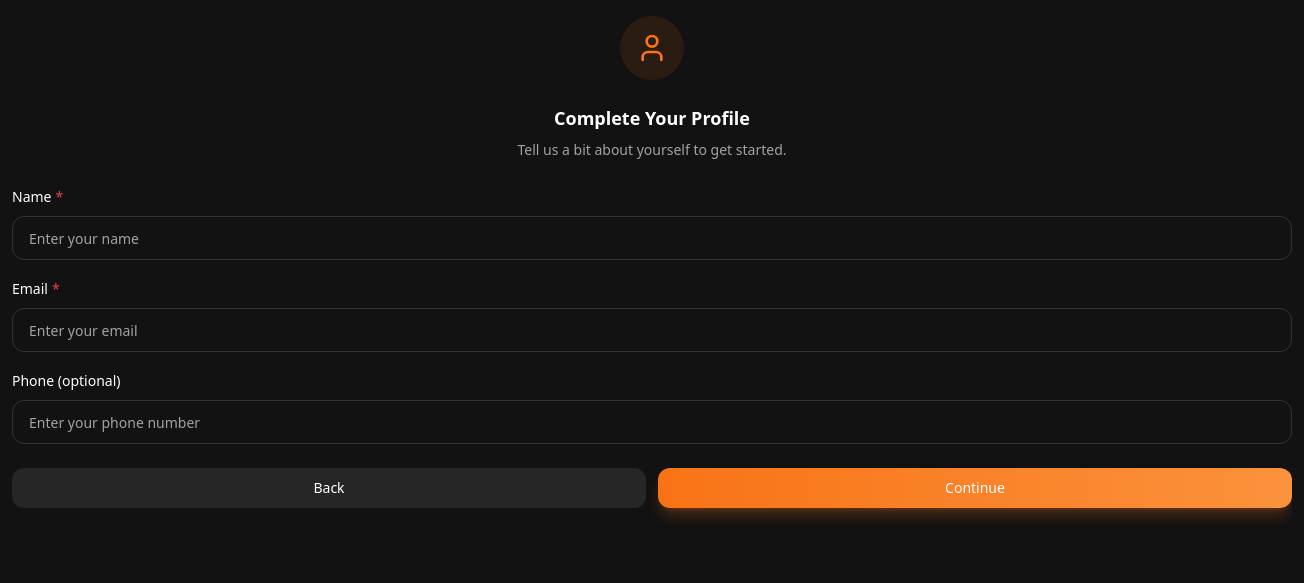
it: requires a name and an email before saving
Click the button "Continue" at (975,488), box [658,468,1292,508]
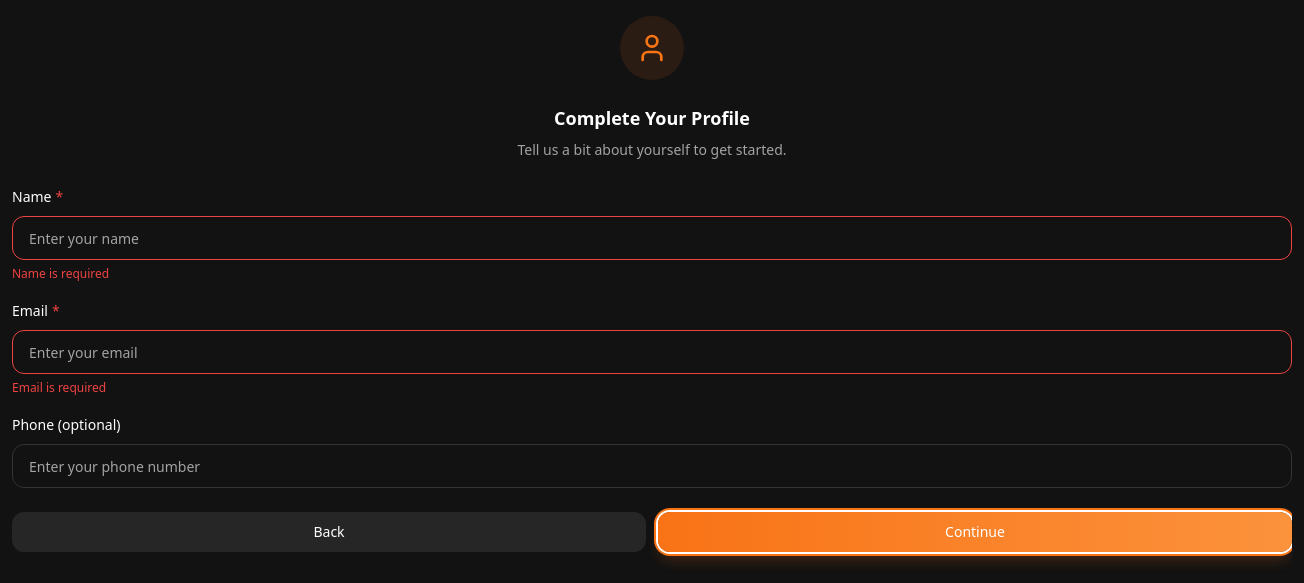
Check: the text "Name is required" is shown, box [12,265,109,282]
Check: the text "Email is required" is shown, box [12,379,106,396]
